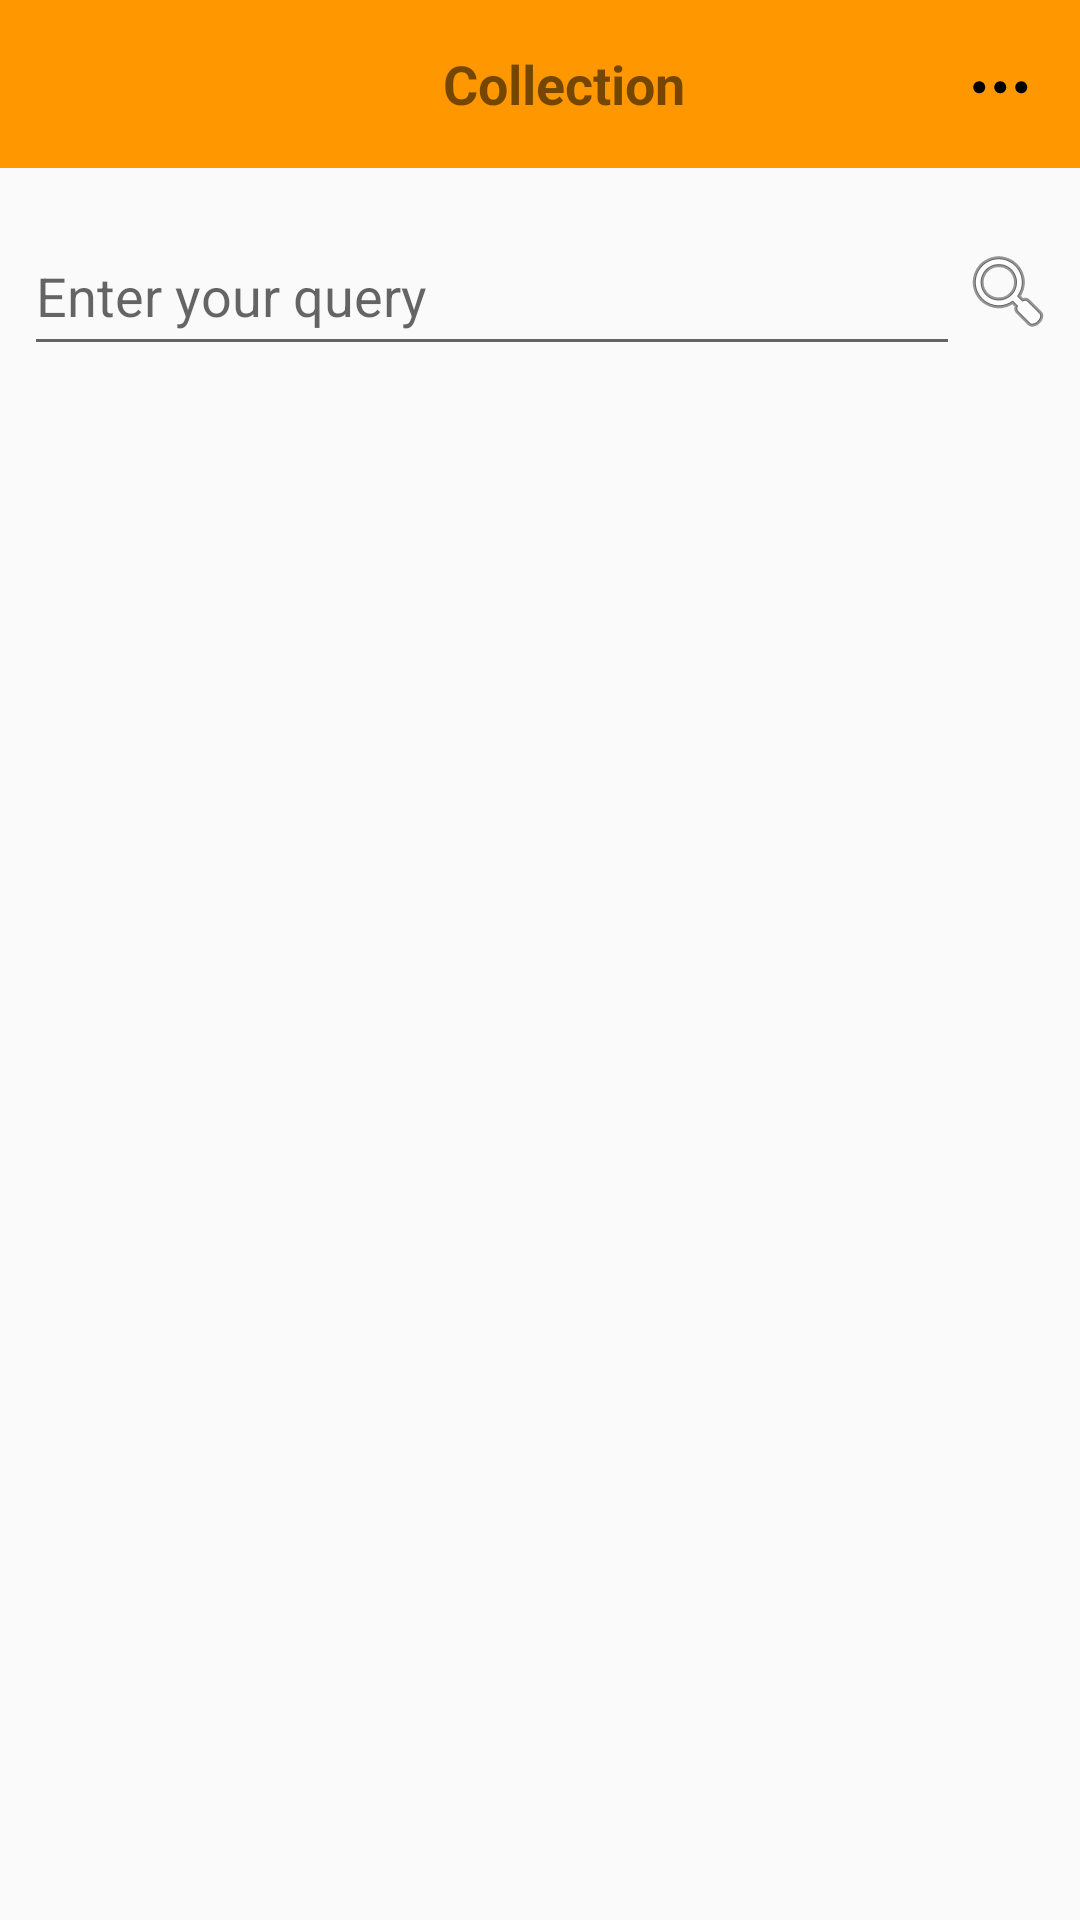

Point at icon controls on the screen. Image size 1080*1920, points as point (x, y).
search: point (1008, 291)
